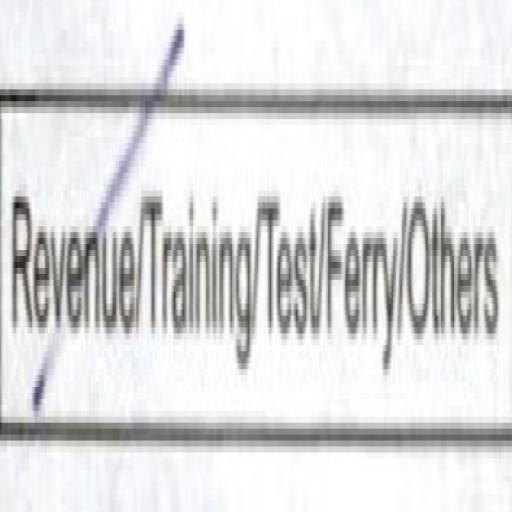check: (2, 8, 142, 487)
